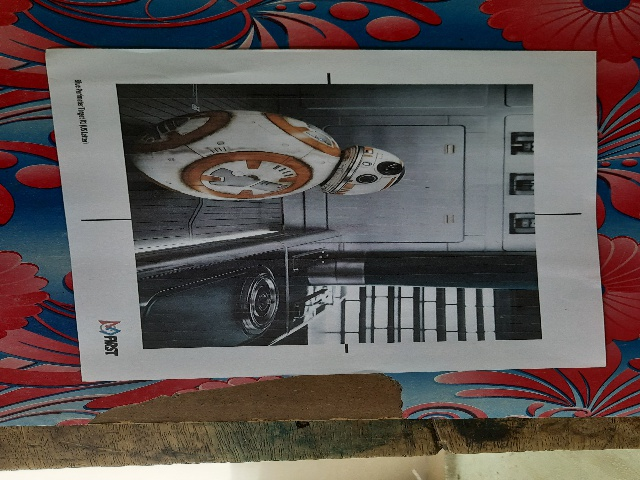bpt1: (49, 53, 612, 363)
